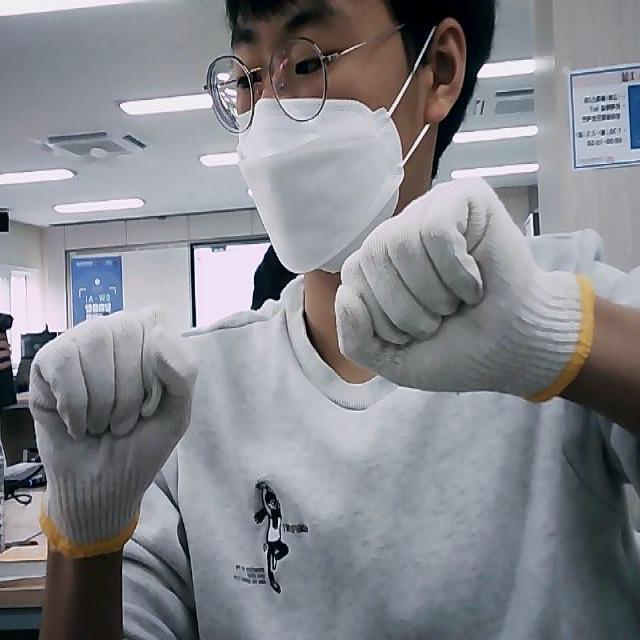gloves: (334, 176, 595, 403), (26, 305, 197, 556)
